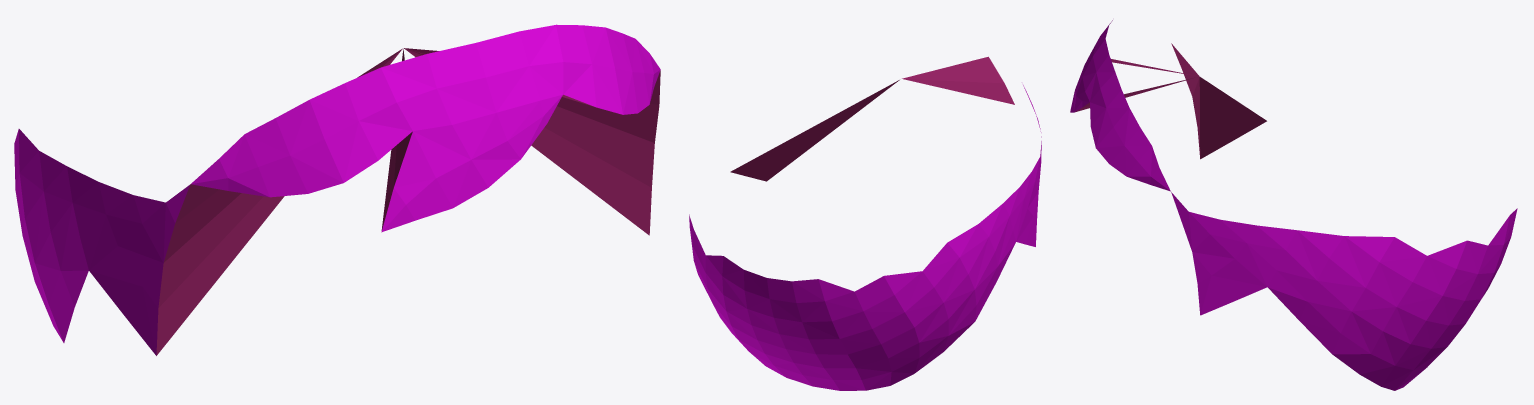
3 views of the same model, side by side, from view 1: azimuth 30°, elevation 25°; view 2: azimuth 150°, elevation 25°; view 3: azimuth 270°, elevation 25° (orthographic). The views are drawn at different scales.
Visible parts, largest first — view 1: shape; view 2: shape; view 3: shape.
Boxes of the visible parts, bbox=[...] form: shape: bbox=[14, 24, 660, 355]; shape: bbox=[689, 56, 1041, 390]; shape: bbox=[1070, 20, 1517, 390].
Size of the model in its own units: 53.05 by 48.24 by 60.15.
